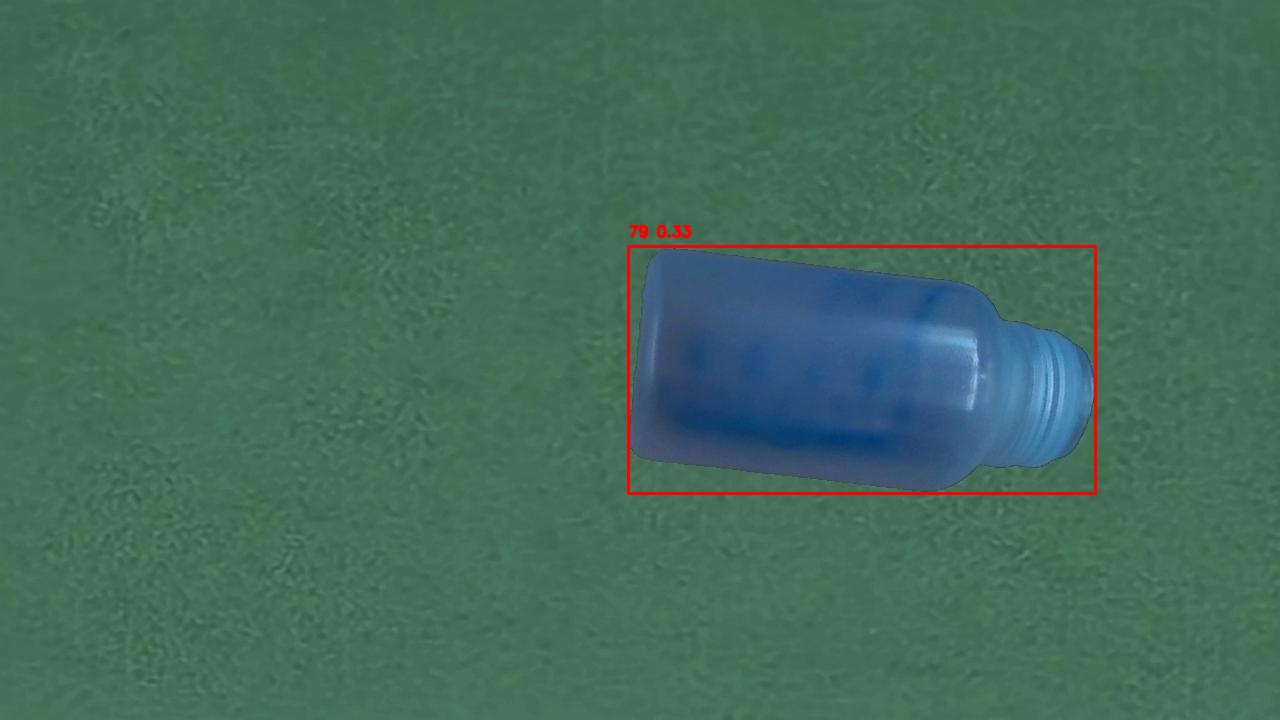cup: (628, 246, 1095, 493)
